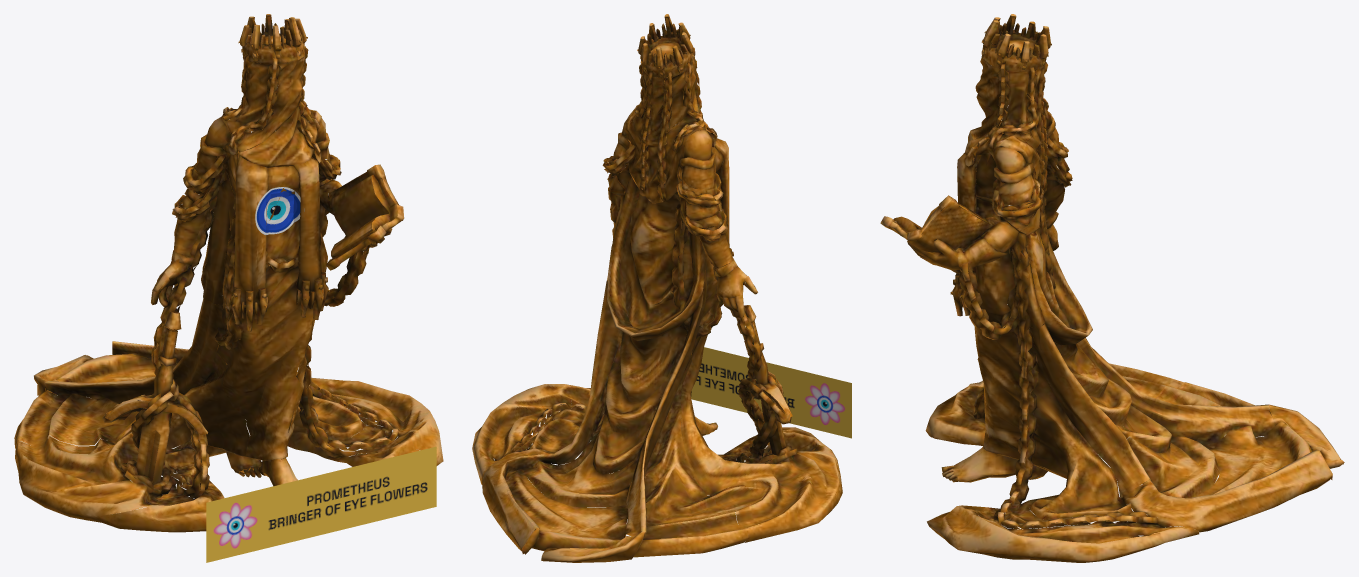
Rendered from nyb_rink_prometheus.glb.
3 renders of one model, left to right at view 1: azimuth 30°, elevation 25°; view 2: azimuth 150°, elevation 25°; view 3: azimuth 270°, elevation 25°, orthographic. The views are drawn at different scales.
Visible parts, largest first — view 1: gothic_statue, add_lbl_5568a8612c.png, stk_nazar_die.png; view 2: gothic_statue, add_lbl_5568a8612c.png; view 3: gothic_statue.
Part boxes in pixels (x1,y1,x2,y2): gothic_statue: [14, 14, 443, 532]; add_lbl_5568a8612c.png: [206, 446, 436, 562]; stk_nazar_die.png: [255, 187, 304, 234]; gothic_statue: [472, 14, 842, 562]; add_lbl_5568a8612c.png: [691, 347, 851, 438]; gothic_statue: [880, 14, 1344, 562].
Bounding box in the file's own units: 1.47 × 1.75 × 1.56.
Materials: 3 (3 with a texture image).
